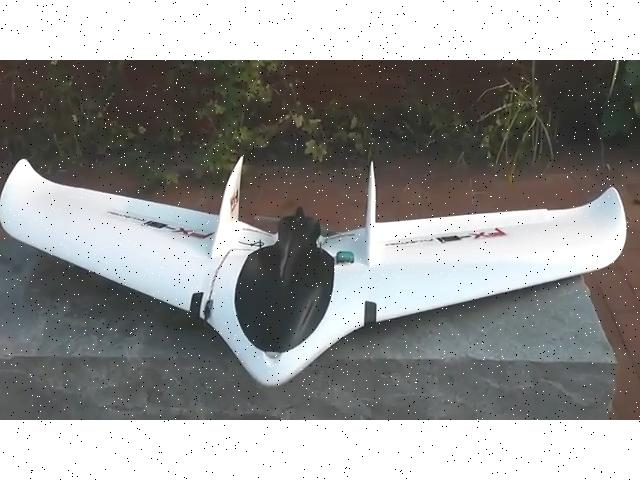Anti-Drone: (0, 138, 640, 380)
